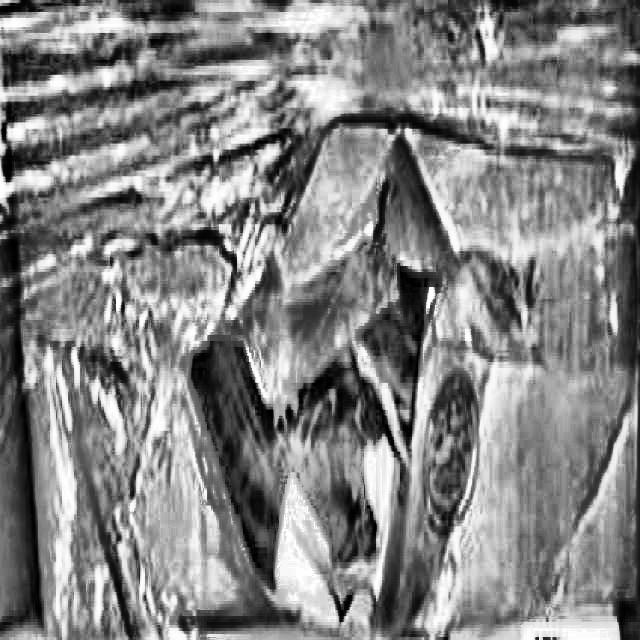box: (0, 0, 639, 639)
hole: (185, 227, 435, 626)
